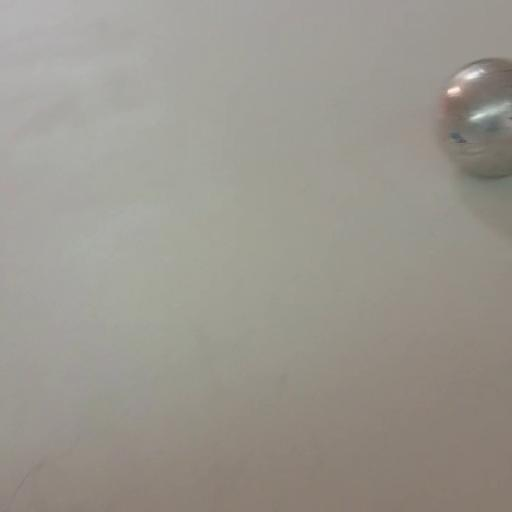alive: (435, 58, 512, 178)
